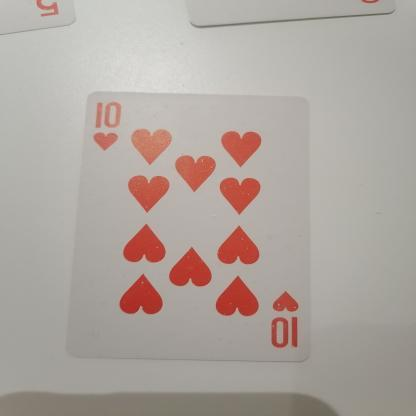10H: (267, 290, 318, 363), (84, 96, 140, 156)
